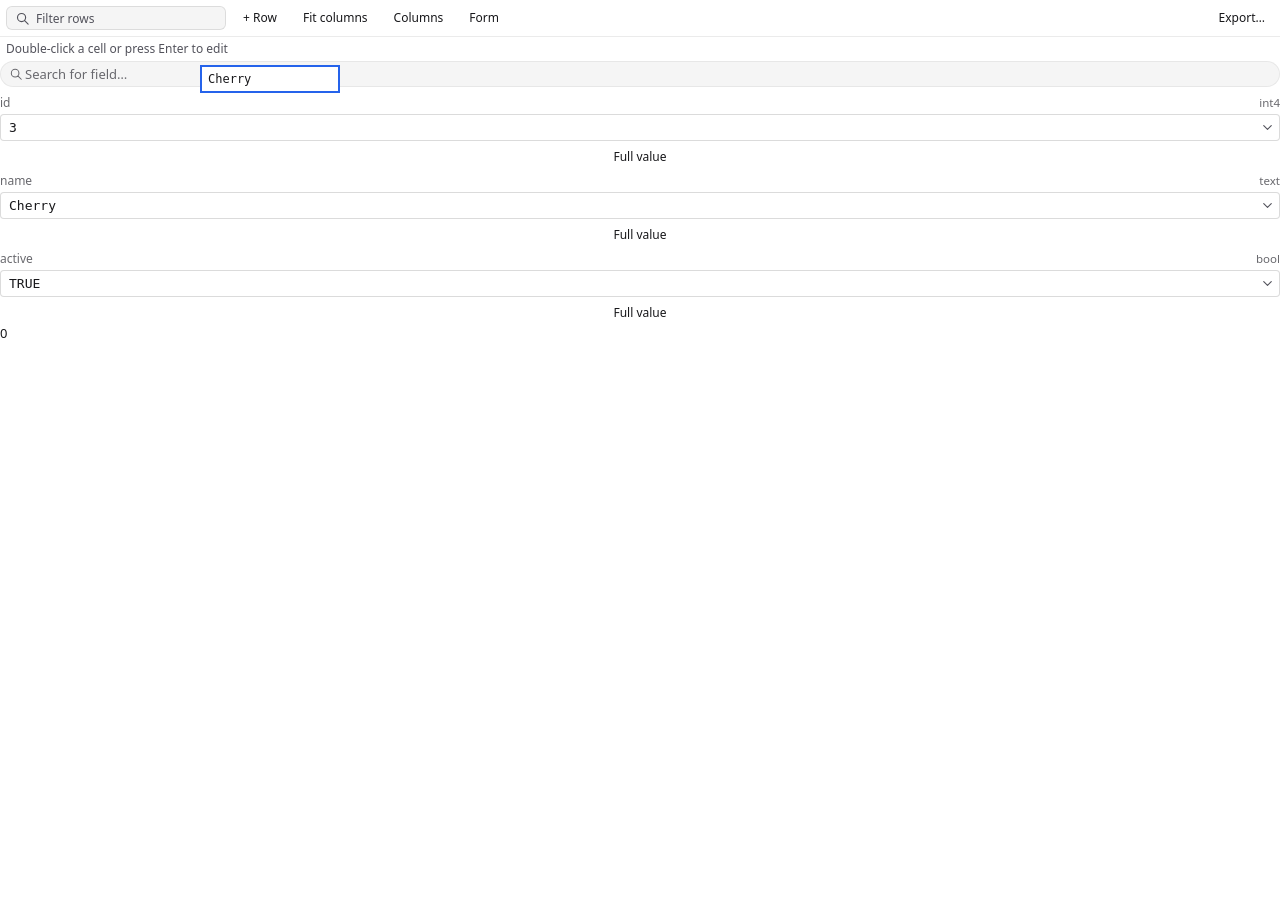
stages an inline query edit, highlights it, supports undo/redo and commits the reviewed SQL
Expected: the button "+ Row" is enabled, [234,6,286,30]
Replace the text in the field named "Edit name" with "Edited" at x=270, y=79, box [200,65,340,93]
Then press Enter
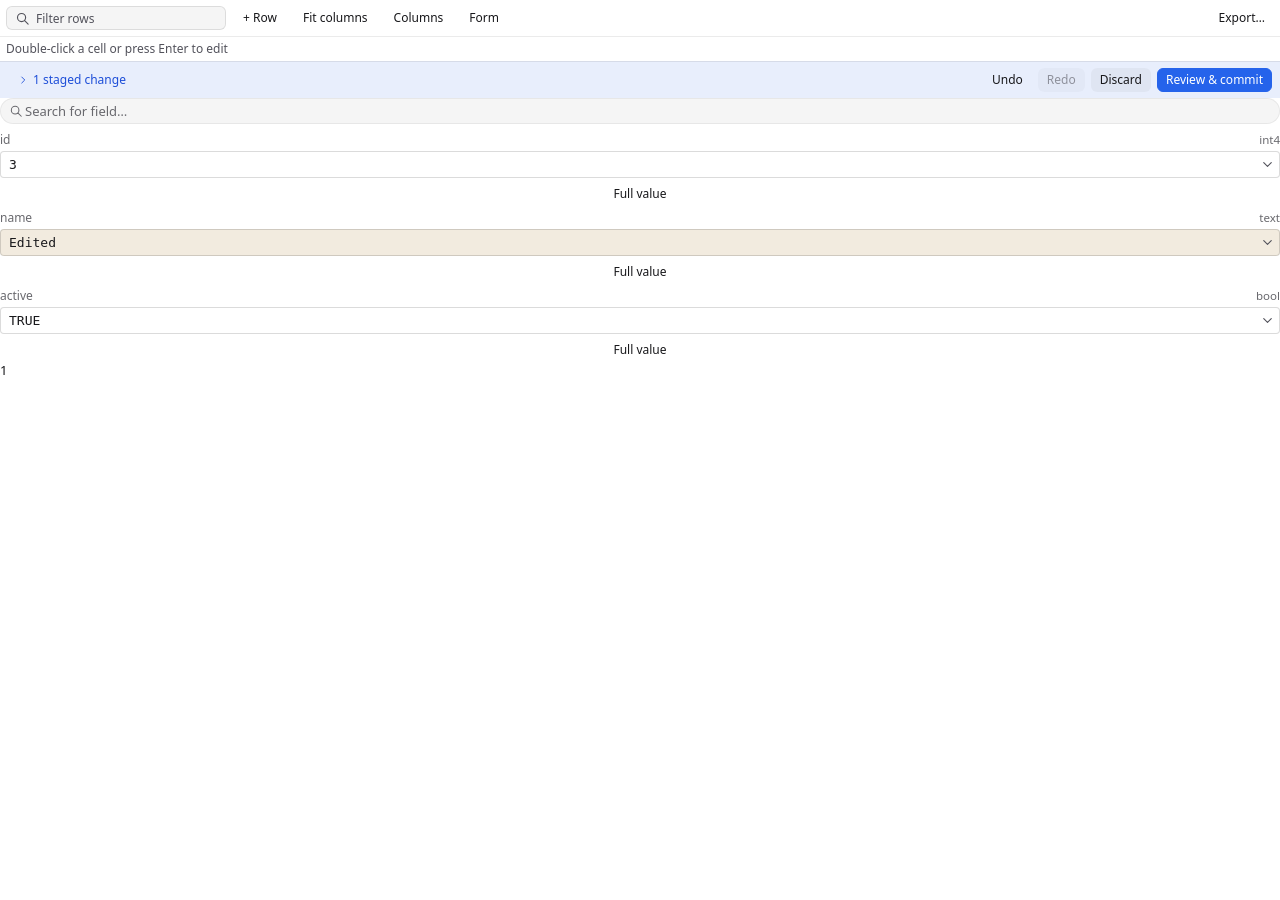
Now the text named "Protected edits" reads "1", box [0,361,7,379]
Click the button "Undo" at x=1007, y=80, box [983,68,1032,92]
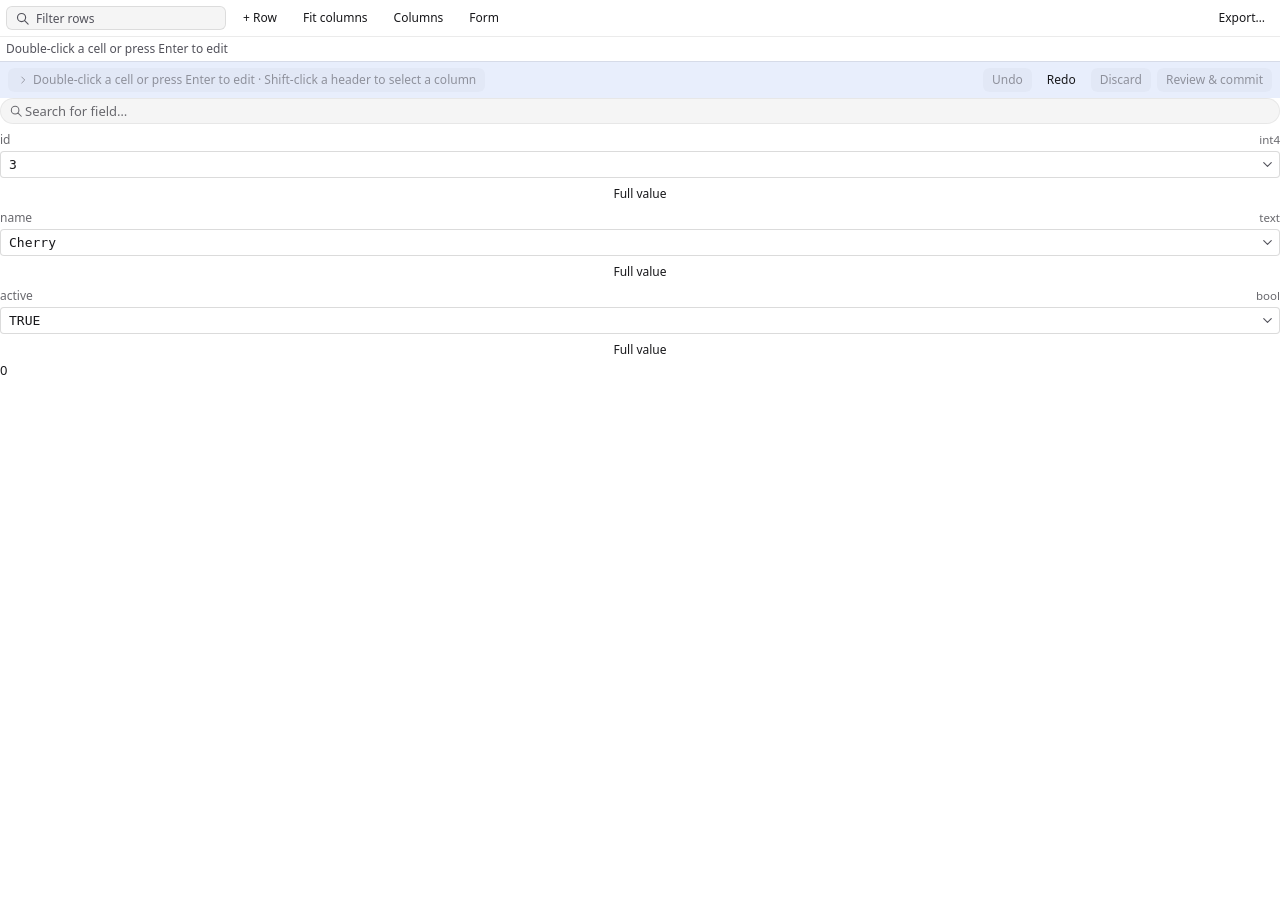
Click the button "Redo" at x=1061, y=80, box [1038,68,1085,92]
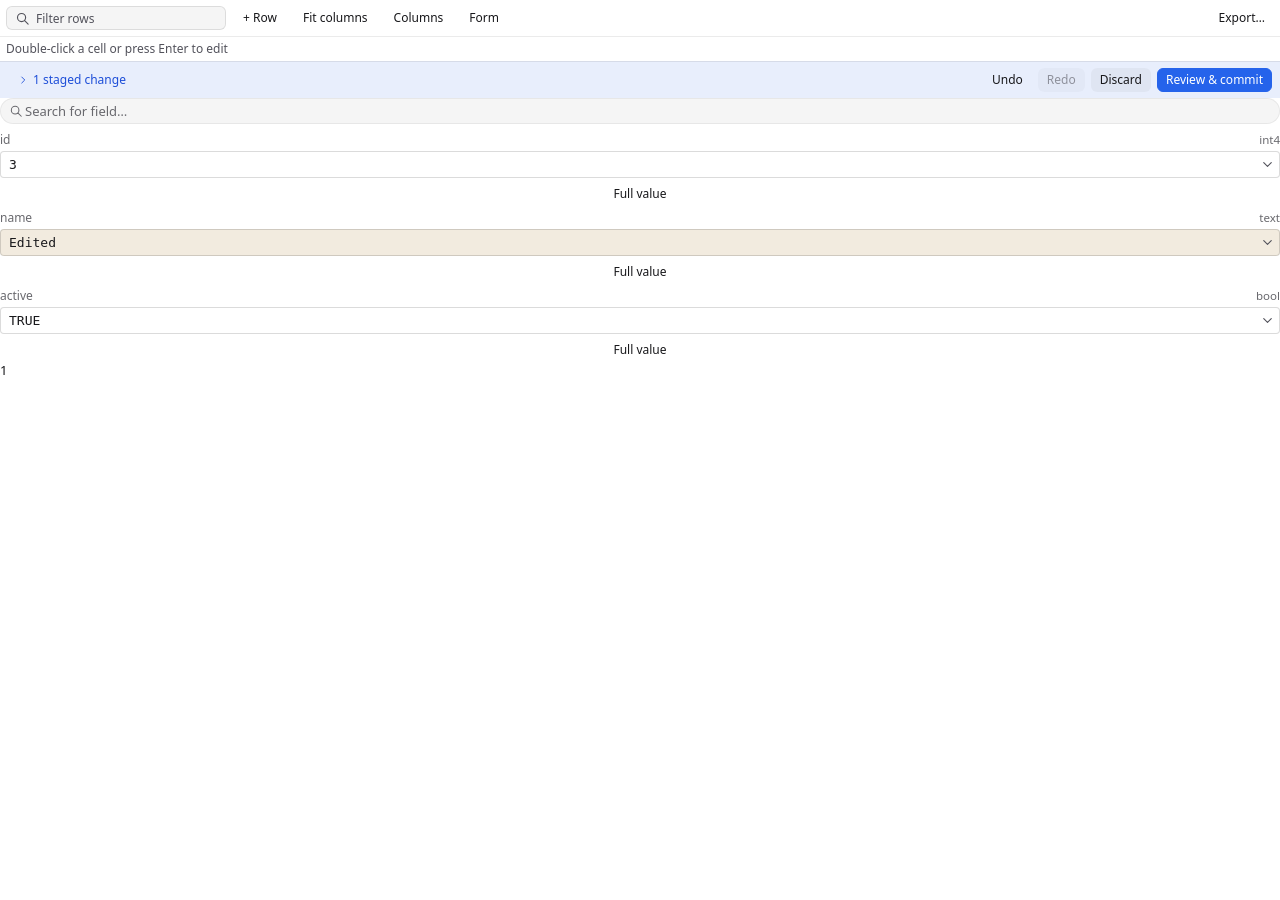
Click the button "Review & commit" at x=1214, y=80, box [1157,68,1272,92]
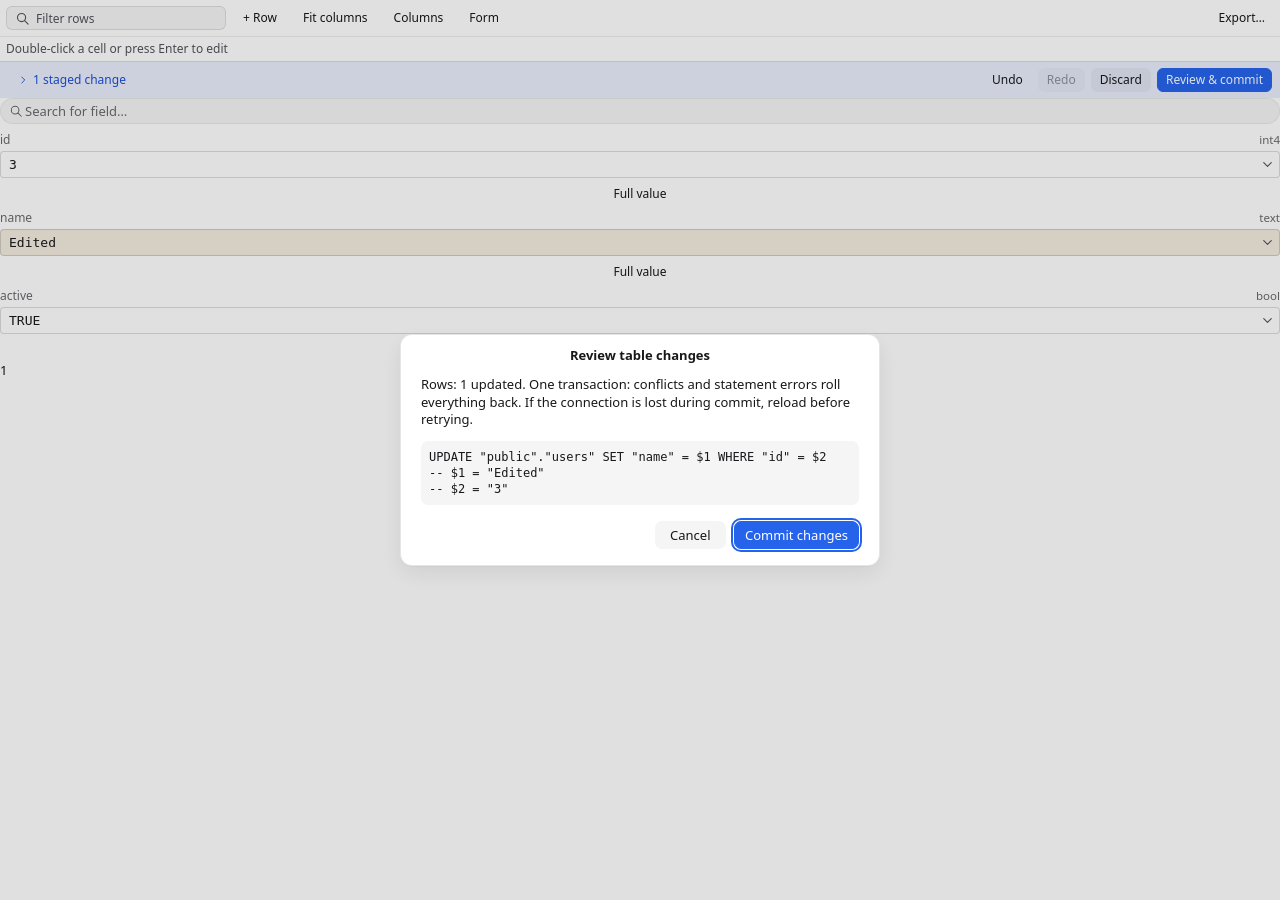
Now the text named "SQL to commit" shows "UPDATE \"public\".\"users\"", box [429,450,826,496]
Click the button "Commit changes" at x=796, y=535, box [734,521,859,549]
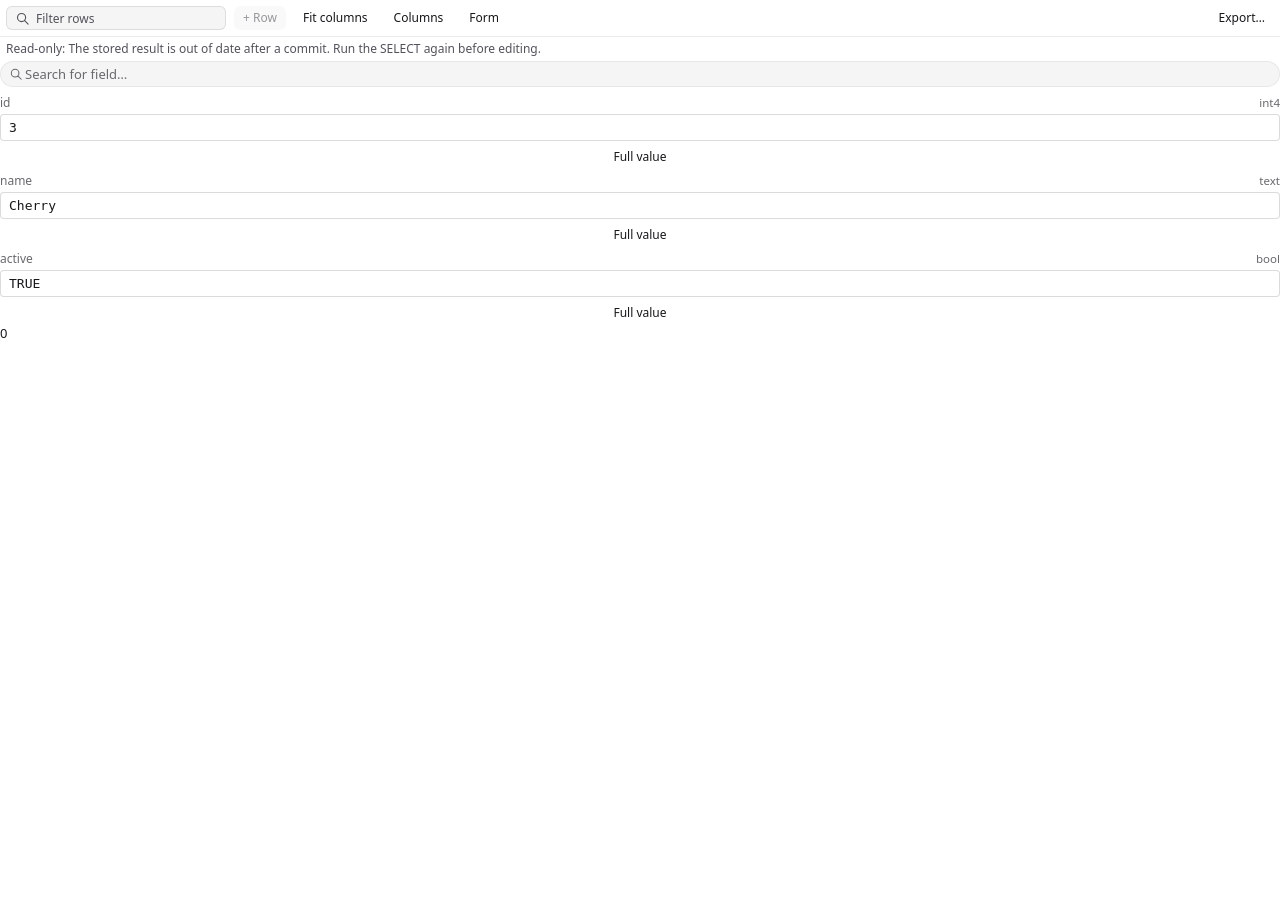
Now the text named "Protected edits" reads "0", box [0,324,7,342]
Now the message named "Result status" shows "out of date", box [6,40,541,57]
